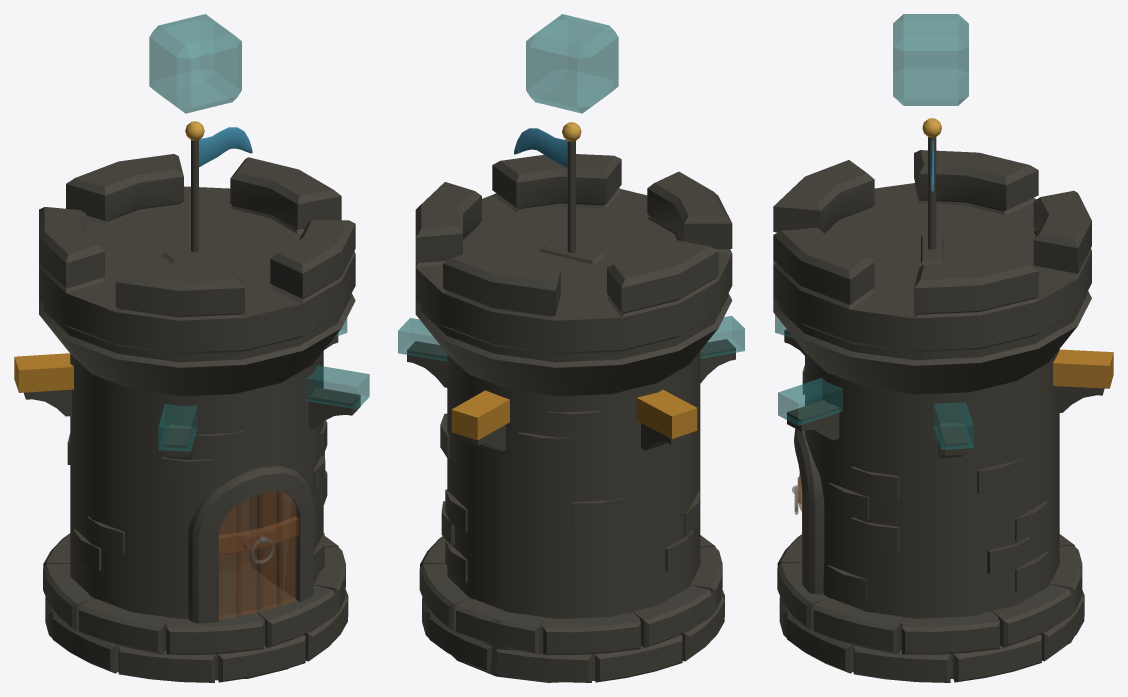
Rendered from tower2.glb.
The picture shows the model from 3 angles, left to right: view 1: azimuth 30°, elevation 25°; view 2: azimuth 150°, elevation 25°; view 3: azimuth 270°, elevation 25°; orthographic projection.
Visible parts, largest first — view 1: Tower, Tower_Door; view 2: Tower; view 3: Tower.
Boxes of the visible parts, <box> form: Tower: <box>14,14,369,682</box>; Tower_Door: <box>218,491,298,619</box>; Tower: <box>398,14,744,682</box>; Tower: <box>773,14,1113,682</box>.
Bounding box in the file's own units: 9.44 × 17.32 × 8.98.
Materials: 2 (2 with a texture image).
